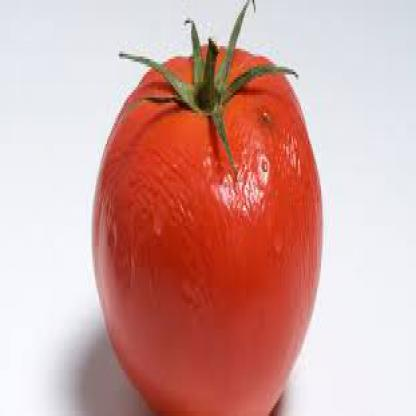Rotten: (67, 5, 360, 414)
